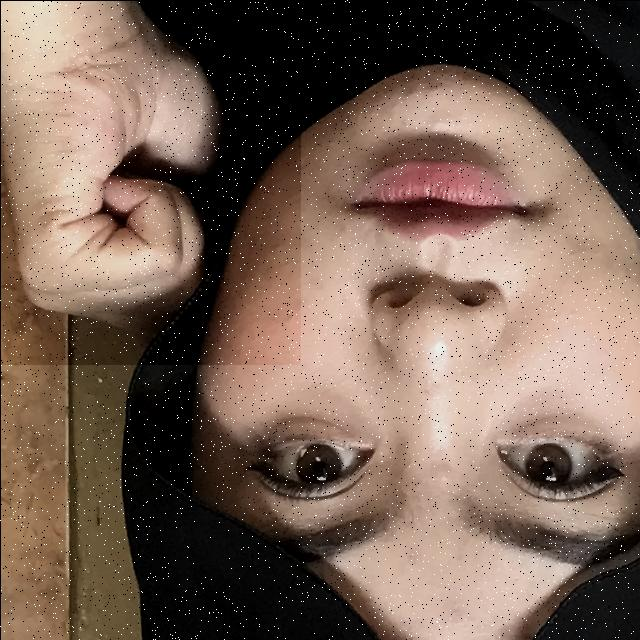ibu: (0, 0, 300, 364)
